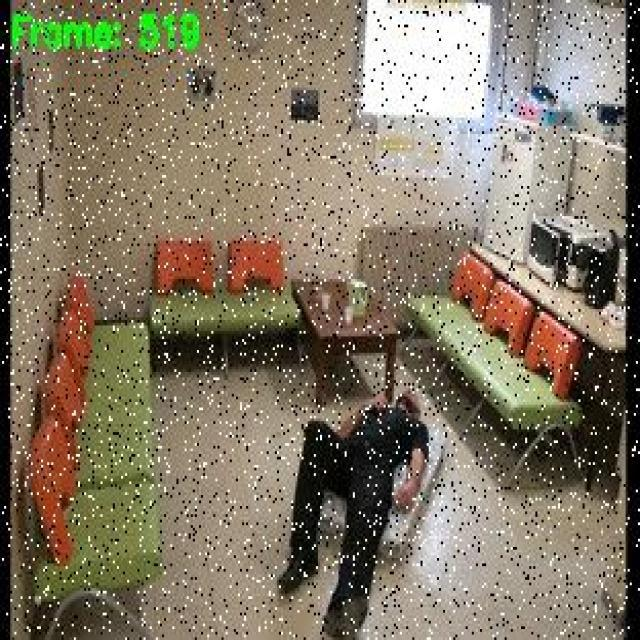fall: (282, 387, 431, 639)
